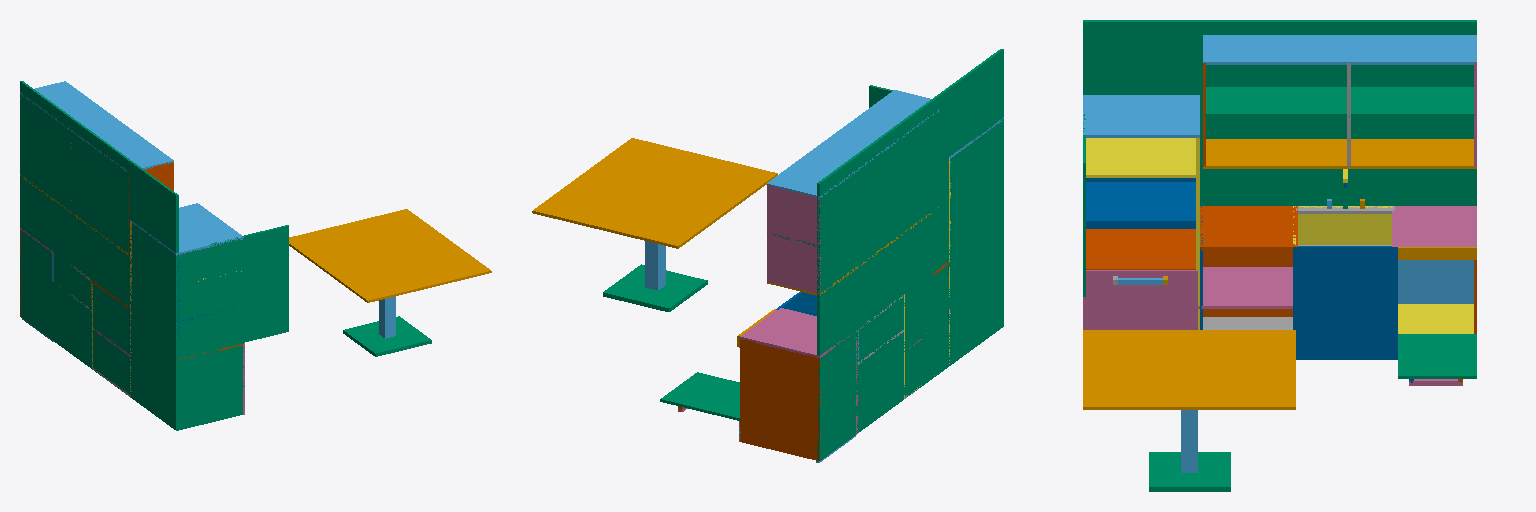
--- Render facts (derived) ---
The picture shows the robot from 3 angles, left to right: view 1: azimuth 30°, elevation 25°; view 2: azimuth 150°, elevation 25°; view 3: azimuth 270°, elevation 25°; orthographic projection.
Model tabletop2 with 51 links and 50 joints (50 fixed), rooted at world, posed all joints at 0.
Visible links, largest first — view 1: back_wall, tabletop, fridge_left_wall, fridge_door, cabinet_top, fridge_top, table_bottom, table_leg; view 2: back_wall, tabletop, dishwasher_right_side, cabinet_top, cabinet_right_wall, table_bottom, countertop_right, dishwasher_door, table_leg, sink_front_wall; view 3: back_wall, tabletop, sink_front_wall, cabinet_top, cabinet_bottom, cabinet_shelf, freezer_door, fridge_top, fridge_shelf2, fridge_shelf3, fridge_shelf1, countertop_left (+14 smaller).
Boxes of the visible links, x1,y1,x2,y2 form: back_wall: (20,81,178,429); tabletop: (289,209,491,302); fridge_left_wall: (175,239,243,430); fridge_door: (210,225,288,350); cabinet_top: (20,81,173,171); fridge_top: (130,203,243,255); table_bottom: (343,316,431,356); table_leg: (379,296,395,338); back_wall: (817,49,1003,460); tabletop: (532,138,777,248); dishwasher_right_side: (740,338,820,460); cabinet_top: (767,90,938,197); cabinet_right_wall: (767,185,820,294); table_bottom: (603,264,707,311); countertop_right: (740,308,850,358); dishwasher_door: (660,372,739,420); table_leg: (645,241,665,290); sink_front_wall: (776,292,816,315); back_wall: (1083,20,1476,205); tabletop: (1083,330,1295,409); sink_front_wall: (1293,246,1397,359); cabinet_top: (1203,35,1476,64); cabinet_bottom: (1203,139,1476,168); cabinet_shelf: (1204,87,1474,116); freezer_door: (1083,270,1197,329); fridge_top: (1083,95,1199,137); fridge_shelf2: (1086,182,1195,223); fridge_shelf3: (1086,229,1195,269); fridge_shelf1: (1086,138,1195,177); countertop_left: (1200,206,1297,249).
Size in the robot's own frame: 1.4 by 1.2 by 1.01 metres.
Geometry: primitives only (box / cylinder / sphere), no mesh files.

robot.urdf — tabletop2:
<robot name="tabletop2">
  <link name="world"/>
  <link name="fridge_top">
    <visual>
      <geometry>
        <box size="0.3 0.355 0.01"/>
      </geometry>
      <origin xyz="0.075 0.08875 0.375" rpy="0 0 0"/>
    </visual>
    <collision>
    <origin xyz="0.075 0.08875 0.375" rpy="0 0 0"/>
      <geometry>
        <box size="0.3 0.355 0.01"/>
      </geometry>
    </collision>
  </link>
  <joint name="fridge_top_joint" type="fixed">
    <parent link="world"/>
    <child link="fridge_top"/>
    <origin xyz="0.075 0.08875 0.375" rpy="0 0 0"/>
  </joint>
  <link name="fridge_door">
    <visual>
      <geometry>
        <box size="0.35 0.01 0.45"/>
      </geometry>
      <origin xyz="0.1625 0.0025 0.265" rpy="0 0 0"/>
    </visual>
    <collision>
    <origin xyz="0.1625 0.0025 0.265" rpy="0 0 0"/>
      <geometry>
        <box size="0.35 0.01 0.45"/>
      </geometry>
    </collision>
  </link>
  <joint name="fridge_door_joint" type="fixed">
    <parent link="world"/>
    <child link="fridge_door"/>
    <origin xyz="0.1625 0.0025 0.265" rpy="0 0 0"/>
  </joint>
  <link name="fridge_shelf1">
    <visual>
      <geometry>
        <box size="0.295 0.35 0.01"/>
      </geometry>
      <origin xyz="0.075 0.0875 0.3075" rpy="0 0 0"/>
    </visual>
    <collision>
    <origin xyz="0.075 0.0875 0.3075" rpy="0 0 0"/>
      <geometry>
        <box size="0.295 0.35 0.01"/>
      </geometry>
    </collision>
  </link>
  <joint name="fridge_shelf1_joint" type="fixed">
    <parent link="world"/>
    <child link="fridge_shelf1"/>
    <origin xyz="0.075 0.0875 0.3075" rpy="0 0 0"/>
  </joint>
  <link name="fridge_shelf2">
    <visual>
      <geometry>
        <box size="0.295 0.35 0.01"/>
      </geometry>
      <origin xyz="0.075 0.0875 0.23" rpy="0 0 0"/>
    </visual>
    <collision>
    <origin xyz="0.075 0.0875 0.23" rpy="0 0 0"/>
      <geometry>
        <box size="0.295 0.35 0.01"/>
      </geometry>
    </collision>
  </link>
  <joint name="fridge_shelf2_joint" type="fixed">
    <parent link="world"/>
    <child link="fridge_shelf2"/>
    <origin xyz="0.075 0.0875 0.23" rpy="0 0 0"/>
  </joint>
  <link name="fridge_shelf3">
    <visual>
      <geometry>
        <box size="0.295 0.35 0.01"/>
      </geometry>
      <origin xyz="0.075 0.0875 0.15" rpy="0 0 0"/>
    </visual>
    <collision>
    <origin xyz="0.075 0.0875 0.15" rpy="0 0 0"/>
      <geometry>
        <box size="0.295 0.35 0.01"/>
      </geometry>
    </collision>
  </link>
  <joint name="fridge_shelf3_joint" type="fixed">
    <parent link="world"/>
    <child link="fridge_shelf3"/>
    <origin xyz="0.075 0.0875 0.15" rpy="0 0 0"/>
  </joint>
  <link name="freezer_door">
    <visual>
      <geometry>
        <box size="0.01 0.35 0.3"/>
      </geometry>
      <origin xyz="0.15 0.0875 0.075" rpy="0 0 0"/>
    </visual>
    <collision>
    <origin xyz="0.15 0.0875 0.075" rpy="0 0 0"/>
      <geometry>
        <box size="0.01 0.35 0.3"/>
      </geometry>
    </collision>
  </link>
  <joint name="freezer_door_joint" type="fixed">
    <parent link="world"/>
    <child link="freezer_door"/>
    <origin xyz="0.15 0.0875 0.075" rpy="0 0 0"/>
  </joint>
  <link name="freezer_handle_left">
    <visual>
      <geometry>
        <box size="0.035 0.015 0.015"/>
      </geometry>
      <origin xyz="0.1575 0.05 0.1375" rpy="0 0 0"/>
    </visual>
    <collision>
    <origin xyz="0.1575 0.05 0.1375" rpy="0 0 0"/>
      <geometry>
        <box size="0.035 0.015 0.015"/>
      </geometry>
    </collision>
  </link>
  <joint name="freezer_handle_left_joint" type="fixed">
    <parent link="world"/>
    <child link="freezer_handle_left"/>
    <origin xyz="0.1575 0.05 0.1375" rpy="0 0 0"/>
  </joint>
  <link name="freezer_handle_right">
    <visual>
      <geometry>
        <box size="0.035 0.015 0.015"/>
      </geometry>
      <origin xyz="0.1575 0.125 0.1375" rpy="0 0 0"/>
    </visual>
    <collision>
    <origin xyz="0.1575 0.125 0.1375" rpy="0 0 0"/>
      <geometry>
        <box size="0.035 0.015 0.015"/>
      </geometry>
    </collision>
  </link>
  <joint name="freezer_handle_right_joint" type="fixed">
    <parent link="world"/>
    <child link="freezer_handle_right"/>
    <origin xyz="0.1575 0.125 0.1375" rpy="0 0 0"/>
  </joint>
  <link name="freezer_handle">
    <visual>
      <geometry>
        <box size="0.015 0.15 0.015"/>
      </geometry>
      <origin xyz="0.1625 0.0875 0.1375" rpy="0 0 0"/>
    </visual>
    <collision>
    <origin xyz="0.1625 0.0875 0.1375" rpy="0 0 0"/>
      <geometry>
        <box size="0.015 0.15 0.015"/>
      </geometry>
    </collision>
  </link>
  <joint name="freezer_handle_joint" type="fixed">
    <parent link="world"/>
    <child link="freezer_handle"/>
    <origin xyz="0.1625 0.0875 0.1375" rpy="0 0 0"/>
  </joint>
  <link name="fridge_left_wall">
    <visual>
      <geometry>
        <box size="0.3 0.01 0.75"/>
      </geometry>
      <origin xyz="0.075 0.0025 0.1875" rpy="0 0 0"/>
    </visual>
    <collision>
    <origin xyz="0.075 0.0025 0.1875" rpy="0 0 0"/>
      <geometry>
        <box size="0.3 0.01 0.75"/>
      </geometry>
    </collision>
  </link>
  <joint name="fridge_left_wall_joint" type="fixed">
    <parent link="world"/>
    <child link="fridge_left_wall"/>
    <origin xyz="0.075 0.0025 0.1875" rpy="0 0 0"/>
  </joint>
  <link name="fridge_right_wall">
    <visual>
      <geometry>
        <box size="0.3 0.01 0.75"/>
      </geometry>
      <origin xyz="0.075 0.175 0.1875" rpy="0 0 0"/>
    </visual>
    <collision>
    <origin xyz="0.075 0.175 0.1875" rpy="0 0 0"/>
      <geometry>
        <box size="0.3 0.01 0.75"/>
      </geometry>
    </collision>
  </link>
  <joint name="fridge_right_wall_joint" type="fixed">
    <parent link="world"/>
    <child link="fridge_right_wall"/>
    <origin xyz="0.075 0.175 0.1875" rpy="0 0 0"/>
  </joint>
  <link name="fridge_back_wall">
    <visual>
      <geometry>
        <box size="0.01 0.35 0.75"/>
      </geometry>
      <origin xyz="0.005 0.0875 0.1875" rpy="0 0 0"/>
    </visual>
    <collision>
    <origin xyz="0.005 0.0875 0.1875" rpy="0 0 0"/>
      <geometry>
        <box size="0.01 0.35 0.75"/>
      </geometry>
    </collision>
  </link>
  <joint name="fridge_back_wall_joint" type="fixed">
    <parent link="world"/>
    <child link="fridge_back_wall"/>
    <origin xyz="0.005 0.0875 0.1875" rpy="0 0 0"/>
  </joint>
  <link name="countertop_left">
    <visual>
      <geometry>
        <box size="0.3 0.3 0.01"/>
      </geometry>
      <origin xyz="0.075 0.2525 0.1875" rpy="0 0 0"/>
    </visual>
    <collision>
    <origin xyz="0.075 0.2525 0.1875" rpy="0 0 0"/>
      <geometry>
        <box size="0.3 0.3 0.01"/>
      </geometry>
    </collision>
  </link>
  <joint name="countertop_left_joint" type="fixed">
    <parent link="world"/>
    <child link="countertop_left"/>
    <origin xyz="0.075 0.2525 0.1875" rpy="0 0 0"/>
  </joint>
  <link name="countertop_right">
    <visual>
      <geometry>
        <box size="0.3 0.26 0.01"/>
      </geometry>
      <origin xyz="0.075 0.535 0.1875" rpy="0 0 0"/>
    </visual>
    <collision>
    <origin xyz="0.075 0.535 0.1875" rpy="0 0 0"/>
      <geometry>
        <box size="0.3 0.26 0.01"/>
      </geometry>
    </collision>
  </link>
  <joint name="countertop_right_joint" type="fixed">
    <parent link="world"/>
    <child link="countertop_right"/>
    <origin xyz="0.075 0.535 0.1875" rpy="0 0 0"/>
  </joint>
  <link name="sink_bottom">
    <visual>
      <geometry>
        <box size="0.3 0.3 0.01"/>
      </geometry>
      <origin xyz="0.075 0.4 0.125" rpy="0 0 0"/>
    </visual>
    <collision>
    <origin xyz="0.075 0.4 0.125" rpy="0 0 0"/>
      <geometry>
        <box size="0.3 0.3 0.01"/>
      </geometry>
    </collision>
  </link>
  <joint name="sink_bottom_joint" type="fixed">
    <parent link="world"/>
    <child link="sink_bottom"/>
    <origin xyz="0.075 0.4 0.125" rpy="0 0 0"/>
  </joint>
  <link name="sink_left_wall">
    <visual>
      <geometry>
        <box size="0.3 0.01 0.125"/>
      </geometry>
      <origin xyz="0.075 0.325 0.15625" rpy="0 0 0"/>
    </visual>
    <collision>
    <origin xyz="0.075 0.325 0.15625" rpy="0 0 0"/>
      <geometry>
        <box size="0.3 0.01 0.125"/>
      </geometry>
    </collision>
  </link>
  <joint name="sink_left_wall_joint" type="fixed">
    <parent link="world"/>
    <child link="sink_left_wall"/>
    <origin xyz="0.075 0.325 0.15625" rpy="0 0 0"/>
  </joint>
  <link name="sink_right_wall">
    <visual>
      <geometry>
        <box size="0.3 0.01 0.125"/>
      </geometry>
      <origin xyz="0.075 0.475 0.15625" rpy="0 0 0"/>
    </visual>
    <collision>
    <origin xyz="0.075 0.475 0.15625" rpy="0 0 0"/>
      <geometry>
        <box size="0.3 0.01 0.125"/>
      </geometry>
    </collision>
  </link>
  <joint name="sink_right_wall_joint" type="fixed">
    <parent link="world"/>
    <child link="sink_right_wall"/>
    <origin xyz="0.075 0.475 0.15625" rpy="0 0 0"/>
  </joint>
  <link name="back_wall">
    <visual>
      <geometry>
        <box size="0.01 1.2 1.0"/>
      </geometry>
      <origin xyz="0.0025 0.3 0.25" rpy="0 0 0"/>
    </visual>
    <collision>
    <origin xyz="0.0025 0.3 0.25" rpy="0 0 0"/>
      <geometry>
        <box size="0.01 1.2 1.0"/>
      </geometry>
    </collision>
  </link>
  <joint name="back_wall_joint" type="fixed">
    <parent link="world"/>
    <child link="back_wall"/>
    <origin xyz="0.0025 0.3 0.25" rpy="0 0 0"/>
  </joint>
  <link name="sink_back_wall">
    <visual>
      <geometry>
        <box size="0.01 0.31 0.38"/>
      </geometry>
      <origin xyz="0.0075 0.4 0.095" rpy="0 0 0"/>
    </visual>
    <collision>
    <origin xyz="0.0075 0.4 0.095" rpy="0 0 0"/>
      <geometry>
        <box size="0.01 0.31 0.38"/>
      </geometry>
    </collision>
  </link>
  <joint name="sink_back_wall_joint" type="fixed">
    <parent link="world"/>
    <child link="sink_back_wall"/>
    <origin xyz="0.0075 0.4 0.095" rpy="0 0 0"/>
  </joint>
  <link name="sink_front_wall">
    <visual>
      <geometry>
        <box size="0.01 0.32 0.38"/>
      </geometry>
      <origin xyz="0.15 0.4 0.095" rpy="0 0 0"/>
    </visual>
    <collision>
    <origin xyz="0.15 0.4 0.095" rpy="0 0 0"/>
      <geometry>
        <box size="0.01 0.32 0.38"/>
      </geometry>
    </collision>
  </link>
  <joint name="sink_front_wall_joint" type="fixed">
    <parent link="world"/>
    <child link="sink_front_wall"/>
    <origin xyz="0.15 0.4 0.095" rpy="0 0 0"/>
  </joint>
  <link name="dishwasher_right_side">
    <visual>
      <geometry>
        <box size="0.3 0.01 0.375"/>
      </geometry>
      <origin xyz="0.075 0.5975 0.09375" rpy="0 0 0"/>
    </visual>
    <collision>
    <origin xyz="0.075 0.5975 0.09375" rpy="0 0 0"/>
      <geometry>
        <box size="0.3 0.01 0.375"/>
      </geometry>
    </collision>
  </link>
  <joint name="dishwasher_right_side_joint" type="fixed">
    <parent link="world"/>
    <child link="dishwasher_right_side"/>
    <origin xyz="0.075 0.5975 0.09375" rpy="0 0 0"/>
  </joint>
  <link name="dishwasher_left_side">
    <visual>
      <geometry>
        <box size="0.3 0.01 0.375"/>
      </geometry>
      <origin xyz="0.075 0.4775 0.09375" rpy="0 0 0"/>
    </visual>
    <collision>
    <origin xyz="0.075 0.4775 0.09375" rpy="0 0 0"/>
      <geometry>
        <box size="0.3 0.01 0.375"/>
      </geometry>
    </collision>
  </link>
  <joint name="dishwasher_left_side_joint" type="fixed">
    <parent link="world"/>
    <child link="dishwasher_left_side"/>
    <origin xyz="0.075 0.4775 0.09375" rpy="0 0 0"/>
  </joint>
  <link name="dishwasher_bottom_wall">
    <visual>
      <geometry>
        <box size="0.01 0.24 0.08"/>
      </geometry>
      <origin xyz="0.15 0.54 0.02" rpy="0 0 0"/>
    </visual>
    <collision>
    <origin xyz="0.15 0.54 0.02" rpy="0 0 0"/>
      <geometry>
        <box size="0.01 0.24 0.08"/>
      </geometry>
    </collision>
  </link>
  <joint name="dishwasher_bottom_wall_joint" type="fixed">
    <parent link="world"/>
    <child link="dishwasher_bottom_wall"/>
    <origin xyz="0.15 0.54 0.02" rpy="0 0 0"/>
  </joint>
  <link name="dishwasher_front_top_wall">
    <visual>
      <geometry>
        <box size="0.01 0.24 0.04"/>
      </geometry>
      <origin xyz="0.1525 0.54 0.18" rpy="0 0 0"/>
    </visual>
    <collision>
    <origin xyz="0.1525 0.54 0.18" rpy="0 0 0"/>
      <geometry>
        <box size="0.01 0.24 0.04"/>
      </geometry>
    </collision>
  </link>
  <joint name="dishwasher_front_top_wall_joint" type="fixed">
    <parent link="world"/>
    <child link="dishwasher_front_top_wall"/>
    <origin xyz="0.1525 0.54 0.18" rpy="0 0 0"/>
  </joint>
  <link name="dishwasher_back_wall">
    <visual>
      <geometry>
        <box size="0.01 0.24 0.37"/>
      </geometry>
      <origin xyz="0.005 0.5375 0.0875" rpy="0 0 0"/>
    </visual>
    <collision>
    <origin xyz="0.005 0.5375 0.0875" rpy="0 0 0"/>
      <geometry>
        <box size="0.01 0.24 0.37"/>
      </geometry>
    </collision>
  </link>
  <joint name="dishwasher_back_wall_joint" type="fixed">
    <parent link="world"/>
    <child link="dishwasher_back_wall"/>
    <origin xyz="0.005 0.5375 0.0875" rpy="0 0 0"/>
  </joint>
  <link name="dishwasher_door">
    <visual>
      <geometry>
        <box size="0.3 0.24 0.01"/>
      </geometry>
      <origin xyz="0.225 0.54 0.04" rpy="0 0 0"/>
    </visual>
    <collision>
    <origin xyz="0.225 0.54 0.04" rpy="0 0 0"/>
      <geometry>
        <box size="0.3 0.24 0.01"/>
      </geometry>
    </collision>
  </link>
  <joint name="dishwasher_door_joint" type="fixed">
    <parent link="world"/>
    <child link="dishwasher_door"/>
    <origin xyz="0.225 0.54 0.04" rpy="0 0 0"/>
  </joint>
  <link name="dishwasher_bottom">
    <visual>
      <geometry>
        <box size="0.28 0.24 0.01"/>
      </geometry>
      <origin xyz="0.075 0.5375 0.025" rpy="0 0 0"/>
    </visual>
    <collision>
    <origin xyz="0.075 0.5375 0.025" rpy="0 0 0"/>
      <geometry>
        <box size="0.28 0.24 0.01"/>
      </geometry>
    </collision>
  </link>
  <joint name="dishwasher_bottom_joint" type="fixed">
    <parent link="world"/>
    <child link="dishwasher_bottom"/>
    <origin xyz="0.075 0.5375 0.025" rpy="0 0 0"/>
  </joint>
  <link name="dishwasher_handle_left">
    <visual>
      <geometry>
        <box size="0.015 0.015 0.035"/>
      </geometry>
      <origin xyz="0.275 0.5 0.03" rpy="0 0 0"/>
    </visual>
    <collision>
    <origin xyz="0.275 0.5 0.03" rpy="0 0 0"/>
      <geometry>
        <box size="0.015 0.015 0.035"/>
      </geometry>
    </collision>
  </link>
  <joint name="dishwasher_handle_left_joint" type="fixed">
    <parent link="world"/>
    <child link="dishwasher_handle_left"/>
    <origin xyz="0.275 0.5 0.03" rpy="0 0 0"/>
  </joint>
  <link name="dishwasher_handle_right">
    <visual>
      <geometry>
        <box size="0.015 0.015 0.035"/>
      </geometry>
      <origin xyz="0.275 0.575 0.03" rpy="0 0 0"/>
    </visual>
    <collision>
    <origin xyz="0.275 0.575 0.03" rpy="0 0 0"/>
      <geometry>
        <box size="0.015 0.015 0.035"/>
      </geometry>
    </collision>
  </link>
  <joint name="dishwasher_handle_right_joint" type="fixed">
    <parent link="world"/>
    <child link="dishwasher_handle_right"/>
    <origin xyz="0.275 0.575 0.03" rpy="0 0 0"/>
  </joint>
  <link name="dishwasher_handle">
    <visual>
      <geometry>
        <box size="0.015 0.165 0.015"/>
      </geometry>
      <origin xyz="0.275 0.5375 0.02" rpy="0 0 0"/>
    </visual>
    <collision>
    <origin xyz="0.275 0.5375 0.02" rpy="0 0 0"/>
      <geometry>
        <box size="0.015 0.165 0.015"/>
      </geometry>
    </collision>
  </link>
  <joint name="dishwasher_handle_joint" type="fixed">
    <parent link="world"/>
    <child link="dishwasher_handle"/>
    <origin xyz="0.275 0.5375 0.02" rpy="0 0 0"/>
  </joint>
  <link name="faucet_platform">
    <visual>
      <geometry>
        <box size="0.04 0.3 0.01"/>
      </geometry>
      <origin xyz="0.01 0.4 0.1875" rpy="0 0 0"/>
    </visual>
    <collision>
    <origin xyz="0.01 0.4 0.1875" rpy="0 0 0"/>
      <geometry>
        <box size="0.04 0.3 0.01"/>
      </geometry>
    </collision>
  </link>
  <joint name="faucet_platform_joint" type="fixed">
    <parent link="world"/>
    <child link="faucet_platform"/>
    <origin xyz="0.01 0.4 0.1875" rpy="0 0 0"/>
  </joint>
  <link name="hot_water_knob">
    <visual>
      <geometry>
        <box size="0.015 0.015 0.03"/>
      </geometry>
      <origin xyz="0.01 0.425 0.195" rpy="0 0 0"/>
    </visual>
    <collision>
    <origin xyz="0.01 0.425 0.195" rpy="0 0 0"/>
      <geometry>
        <box size="0.015 0.015 0.03"/>
      </geometry>
    </collision>
  </link>
  <joint name="hot_water_knob_joint" type="fixed">
    <parent link="world"/>
    <child link="hot_water_knob"/>
    <origin xyz="0.01 0.425 0.195" rpy="0 0 0"/>
  </joint>
  <link name="cold_water_knob">
    <visual>
      <geometry>
        <box size="0.015 0.015 0.03"/>
      </geometry>
      <origin xyz="0.01 0.375 0.195" rpy="0 0 0"/>
    </visual>
    <collision>
    <origin xyz="0.01 0.375 0.195" rpy="0 0 0"/>
      <geometry>
        <box size="0.015 0.015 0.03"/>
      </geometry>
    </collision>
  </link>
  <joint name="cold_water_knob_joint" type="fixed">
    <parent link="world"/>
    <child link="cold_water_knob"/>
    <origin xyz="0.01 0.375 0.195" rpy="0 0 0"/>
  </joint>
  <link name="faucet_1">
    <visual>
      <geometry>
        <box size="0.015 0.015 0.15"/>
      </geometry>
      <origin xyz="0.01 0.4 0.225" rpy="0 0 0"/>
    </visual>
    <collision>
    <origin xyz="0.01 0.4 0.225" rpy="0 0 0"/>
      <geometry>
        <box size="0.015 0.015 0.15"/>
      </geometry>
    </collision>
  </link>
  <joint name="faucet_1_joint" type="fixed">
    <parent link="world"/>
    <child link="faucet_1"/>
    <origin xyz="0.01 0.4 0.225" rpy="0 0 0"/>
  </joint>
  <link name="faucet_2">
    <visual>
      <geometry>
        <box size="0.125 0.015 0.015"/>
      </geometry>
      <origin xyz="0.0375 0.4 0.2625" rpy="0 0 0"/>
    </visual>
    <collision>
    <origin xyz="0.0375 0.4 0.2625" rpy="0 0 0"/>
      <geometry>
        <box size="0.125 0.015 0.015"/>
      </geometry>
    </collision>
  </link>
  <joint name="faucet_2_joint" type="fixed">
    <parent link="world"/>
    <child link="faucet_2"/>
    <origin xyz="0.0375 0.4 0.2625" rpy="0 0 0"/>
  </joint>
  <link name="faucet_3">
    <visual>
      <geometry>
        <box size="0.01 0.01 0.025"/>
      </geometry>
      <origin xyz="0.06625 0.4 0.25625" rpy="0 0 0"/>
    </visual>
    <collision>
    <origin xyz="0.06625 0.4 0.25625" rpy="0 0 0"/>
      <geometry>
        <box size="0.01 0.01 0.025"/>
      </geometry>
    </collision>
  </link>
  <joint name="faucet_3_joint" type="fixed">
    <parent link="world"/>
    <child link="faucet_3"/>
    <origin xyz="0.06625 0.4 0.25625" rpy="0 0 0"/>
  </joint>
  <link name="cabinet_left_wall">
    <visual>
      <geometry>
        <box size="0.2 0.01 0.35"/>
      </geometry>
      <origin xyz="0.05 0.185 0.3875" rpy="0 0 0"/>
    </visual>
    <collision>
    <origin xyz="0.05 0.185 0.3875" rpy="0 0 0"/>
      <geometry>
        <box size="0.2 0.01 0.35"/>
      </geometry>
    </collision>
  </link>
  <joint name="cabinet_left_wall_joint" type="fixed">
    <parent link="world"/>
    <child link="cabinet_left_wall"/>
    <origin xyz="0.05 0.185 0.3875" rpy="0 0 0"/>
  </joint>
  <link name="cabinet_right_wall">
    <visual>
      <geometry>
        <box size="0.2 0.01 0.35"/>
      </geometry>
      <origin xyz="0.05 0.5975 0.3875" rpy="0 0 0"/>
    </visual>
    <collision>
    <origin xyz="0.05 0.5975 0.3875" rpy="0 0 0"/>
      <geometry>
        <box size="0.2 0.01 0.35"/>
      </geometry>
    </collision>
  </link>
  <joint name="cabinet_right_wall_joint" type="fixed">
    <parent link="world"/>
    <child link="cabinet_right_wall"/>
    <origin xyz="0.05 0.5975 0.3875" rpy="0 0 0"/>
  </joint>
  <link name="cabinet_middle_wall">
    <visual>
      <geometry>
        <box size="0.2 0.01 0.35"/>
      </geometry>
      <origin xyz="0.05 0.405 0.3875" rpy="0 0 0"/>
    </visual>
    <collision>
    <origin xyz="0.05 0.405 0.3875" rpy="0 0 0"/>
      <geometry>
        <box size="0.2 0.01 0.35"/>
      </geometry>
    </collision>
  </link>
  <joint name="cabinet_middle_wall_joint" type="fixed">
    <parent link="world"/>
    <child link="cabinet_middle_wall"/>
    <origin xyz="0.05 0.405 0.3875" rpy="0 0 0"/>
  </joint>
  <link name="cabinet_bottom">
    <visual>
      <geometry>
        <box size="0.2 0.835 0.01"/>
      </geometry>
      <origin xyz="0.05 0.39125 0.3" rpy="0 0 0"/>
    </visual>
    <collision>
    <origin xyz="0.05 0.39125 0.3" rpy="0 0 0"/>
      <geometry>
        <box size="0.2 0.835 0.01"/>
      </geometry>
    </collision>
  </link>
  <joint name="cabinet_bottom_joint" type="fixed">
    <parent link="world"/>
    <child link="cabinet_bottom"/>
    <origin xyz="0.05 0.39125 0.3" rpy="0 0 0"/>
  </joint>
  <link name="cabinet_top">
    <visual>
      <geometry>
        <box size="0.2 0.835 0.01"/>
      </geometry>
      <origin xyz="0.05 0.39125 0.475" rpy="0 0 0"/>
    </visual>
    <collision>
    <origin xyz="0.05 0.39125 0.475" rpy="0 0 0"/>
      <geometry>
        <box size="0.2 0.835 0.01"/>
      </geometry>
    </collision>
  </link>
  <joint name="cabinet_top_joint" type="fixed">
    <parent link="world"/>
    <child link="cabinet_top"/>
    <origin xyz="0.05 0.39125 0.475" rpy="0 0 0"/>
  </joint>
  <link name="cabinet_shelf">
    <visual>
      <geometry>
        <box size="0.2 0.835 0.01"/>
      </geometry>
      <origin xyz="0.05 0.39125 0.3875" rpy="0 0 0"/>
    </visual>
    <collision>
    <origin xyz="0.05 0.39125 0.3875" rpy="0 0 0"/>
      <geometry>
        <box size="0.2 0.835 0.01"/>
      </geometry>
    </collision>
  </link>
  <joint name="cabinet_shelf_joint" type="fixed">
    <parent link="world"/>
    <child link="cabinet_shelf"/>
    <origin xyz="0.05 0.39125 0.3875" rpy="0 0 0"/>
  </joint>
  <link name="lower_cabinet_right_wall">
    <visual>
      <geometry>
        <box size="0.3 0.01 0.38"/>
      </geometry>
      <origin xyz="0.075 0.3225 0.095" rpy="0 0 0"/>
    </visual>
    <collision>
    <origin xyz="0.075 0.3225 0.095" rpy="0 0 0"/>
      <geometry>
        <box size="0.3 0.01 0.38"/>
      </geometry>
    </collision>
  </link>
  <joint name="lower_cabinet_right_wall_joint" type="fixed">
    <parent link="world"/>
    <child link="lower_cabinet_right_wall"/>
    <origin xyz="0.075 0.3225 0.095" rpy="0 0 0"/>
  </joint>
  <link name="lower_cabinet_left_wall">
    <visual>
      <geometry>
        <box size="0.3 0.01 0.38"/>
      </geometry>
      <origin xyz="0.075 0.18 0.095" rpy="0 0 0"/>
    </visual>
    <collision>
    <origin xyz="0.075 0.18 0.095" rpy="0 0 0"/>
      <geometry>
        <box size="0.3 0.01 0.38"/>
      </geometry>
    </collision>
  </link>
  <joint name="lower_cabinet_left_wall_joint" type="fixed">
    <parent link="world"/>
    <child link="lower_cabinet_left_wall"/>
    <origin xyz="0.075 0.18 0.095" rpy="0 0 0"/>
  </joint>
  <link name="lower_cabinet_back_wall">
    <visual>
      <geometry>
        <box size="0.01 0.3 0.375"/>
      </geometry>
      <origin xyz="0.005 0.25 0.0925" rpy="0 0 0"/>
    </visual>
    <collision>
    <origin xyz="0.005 0.25 0.0925" rpy="0 0 0"/>
      <geometry>
        <box size="0.01 0.3 0.375"/>
      </geometry>
    </collision>
  </link>
  <joint name="lower_cabinet_back_wall_joint" type="fixed">
    <parent link="world"/>
    <child link="lower_cabinet_back_wall"/>
    <origin xyz="0.005 0.25 0.0925" rpy="0 0 0"/>
  </joint>
  <link name="lower_cabinet_shelf">
    <visual>
      <geometry>
        <box size="0.3 0.3 0.01"/>
      </geometry>
      <origin xyz="0.075 0.25 0.0875" rpy="0 0 0"/>
    </visual>
    <collision>
    <origin xyz="0.075 0.25 0.0875" rpy="0 0 0"/>
      <geometry>
        <box size="0.3 0.3 0.01"/>
      </geometry>
    </collision>
  </link>
  <joint name="lower_cabinet_shelf_joint" type="fixed">
    <parent link="world"/>
    <child link="lower_cabinet_shelf"/>
    <origin xyz="0.075 0.25 0.0875" rpy="0 0 0"/>
  </joint>
  <link name="lower_cabinet_bottom">
    <visual>
      <geometry>
        <box size="0.3 0.3 0.01"/>
      </geometry>
      <origin xyz="0.075 0.25 0.0025" rpy="0 0 0"/>
    </visual>
    <collision>
    <origin xyz="0.075 0.25 0.0025" rpy="0 0 0"/>
      <geometry>
        <box size="0.3 0.3 0.01"/>
      </geometry>
    </collision>
  </link>
  <joint name="lower_cabinet_bottom_joint" type="fixed">
    <parent link="world"/>
    <child link="lower_cabinet_bottom"/>
    <origin xyz="0.075 0.25 0.0025" rpy="0 0 0"/>
  </joint>
  <link name="tabletop">
    <visual>
      <geometry>
        <box size="0.55 0.65 0.01"/>
      </geometry>
      <origin xyz="0.5625 0.1625 0.175" rpy="0 0 0"/>
    </visual>
    <collision>
    <origin xyz="0.5625 0.1625 0.175" rpy="0 0 0"/>
      <geometry>
        <box size="0.55 0.65 0.01"/>
      </geometry>
    </collision>
  </link>
  <joint name="tabletop_joint" type="fixed">
    <parent link="world"/>
    <child link="tabletop"/>
    <origin xyz="0.5625 0.1625 0.175" rpy="0 0 0"/>
  </joint>
  <link name="table_leg">
    <visual>
      <geometry>
        <box size="0.05 0.05 0.35"/>
      </geometry>
      <origin xyz="0.5625 0.1625 0.0875" rpy="0 0 0"/>
    </visual>
    <collision>
    <origin xyz="0.5625 0.1625 0.0875" rpy="0 0 0"/>
      <geometry>
        <box size="0.05 0.05 0.35"/>
      </geometry>
    </collision>
  </link>
  <joint name="table_leg_joint" type="fixed">
    <parent link="world"/>
    <child link="table_leg"/>
    <origin xyz="0.5625 0.1625 0.0875" rpy="0 0 0"/>
  </joint>
  <link name="table_bottom">
    <visual>
      <geometry>
        <box size="0.25 0.25 0.015"/>
      </geometry>
      <origin xyz="0.5625 0.1625 0.00375" rpy="0 0 0"/>
    </visual>
    <collision>
    <origin xyz="0.5625 0.1625 0.00375" rpy="0 0 0"/>
      <geometry>
        <box size="0.25 0.25 0.015"/>
      </geometry>
    </collision>
  </link>
  <joint name="table_bottom_joint" type="fixed">
    <parent link="world"/>
    <child link="table_bottom"/>
    <origin xyz="0.5625 0.1625 0.00375" rpy="0 0 0"/>
  </joint>
</robot>
